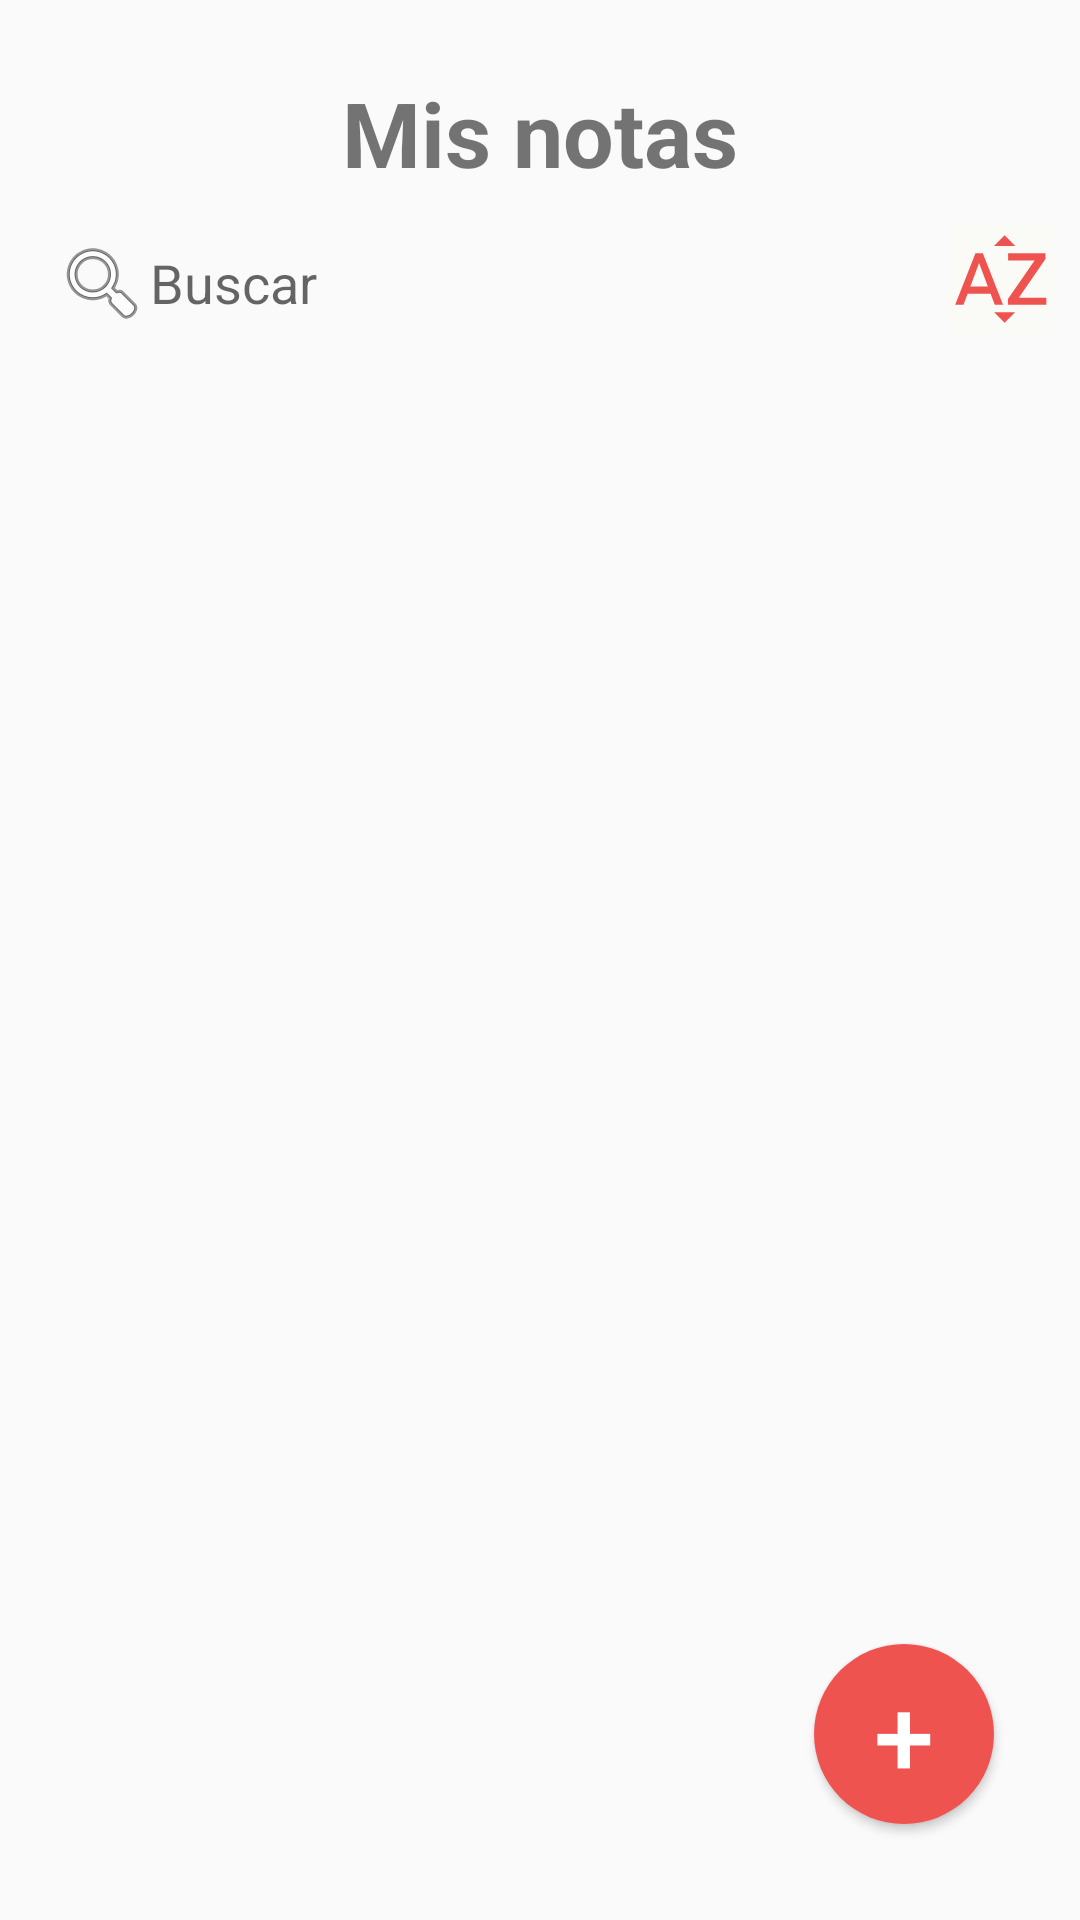

Locate icon controls on the screen. Image size 1080*1920, boxes as {"left": x1, "top": y1, "right": x2, "bottom": y2}.
sort by: {"left": 955, "top": 235, "right": 1047, "bottom": 323}
